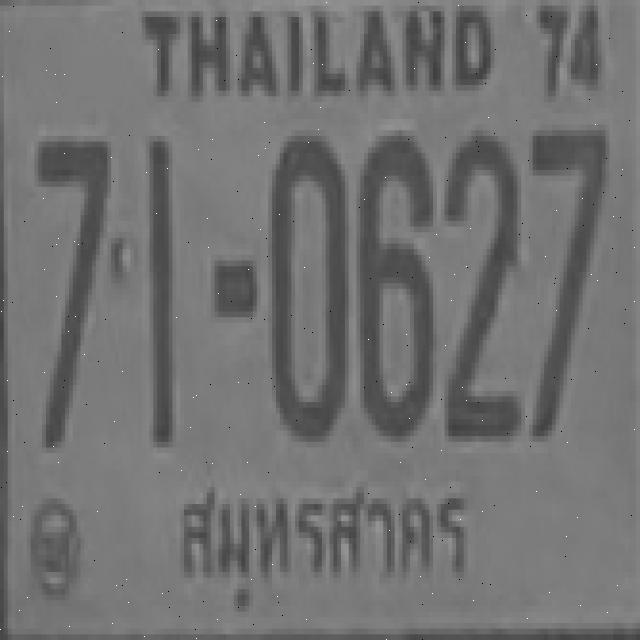0: (268, 130, 344, 436)
1: (146, 136, 172, 436)
2: (442, 128, 516, 416), (441, 128, 517, 394), (442, 167, 516, 433)
6: (356, 133, 429, 433)
7: (529, 124, 605, 430), (34, 136, 108, 442)
SamutSakhon: (168, 461, 478, 605)
